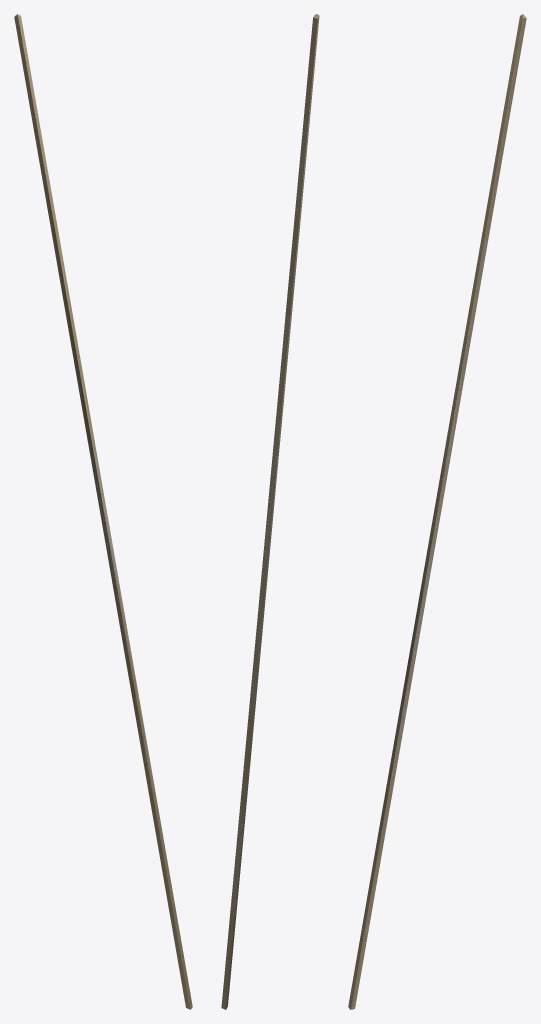
The model's file is original-2.obj.
The picture shows the model from 3 angles, left to right: view 1: azimuth 90°, elevation 25°; view 2: azimuth 210°, elevation 25°; view 3: azimuth 270°, elevation 25°; orthographic projection. The views are drawn at different scales.
Visible parts, largest first — view 1: mesh2/mesh2-geometry#mesh2-geometry; view 2: mesh2/mesh2-geometry#mesh2-geometry; view 3: mesh2/mesh2-geometry#mesh2-geometry.
Part boxes in pixels (box(x1,y1,x2,y2)): mesh2/mesh2-geometry#mesh2-geometry: box(14, 14, 192, 1009); mesh2/mesh2-geometry#mesh2-geometry: box(221, 14, 319, 1009); mesh2/mesh2-geometry#mesh2-geometry: box(348, 14, 526, 1009).
Bounding box in the file's own units: 0.00801 × 1.26 × 0.2046.
